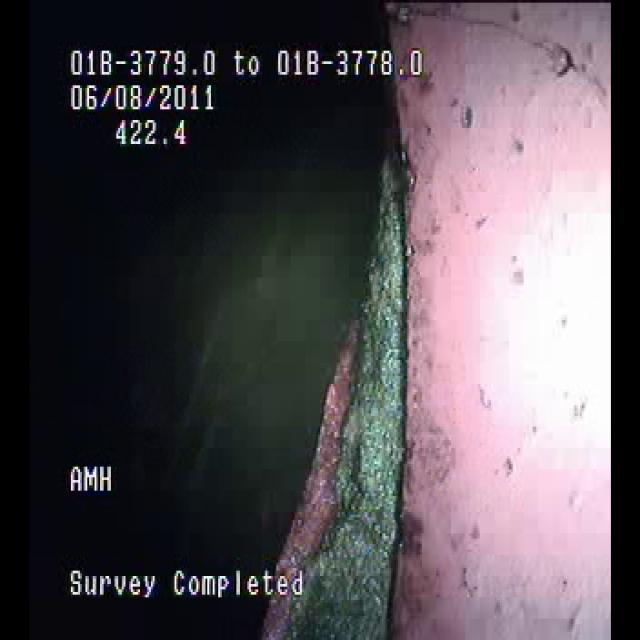Crack: (418, 4, 603, 100)
